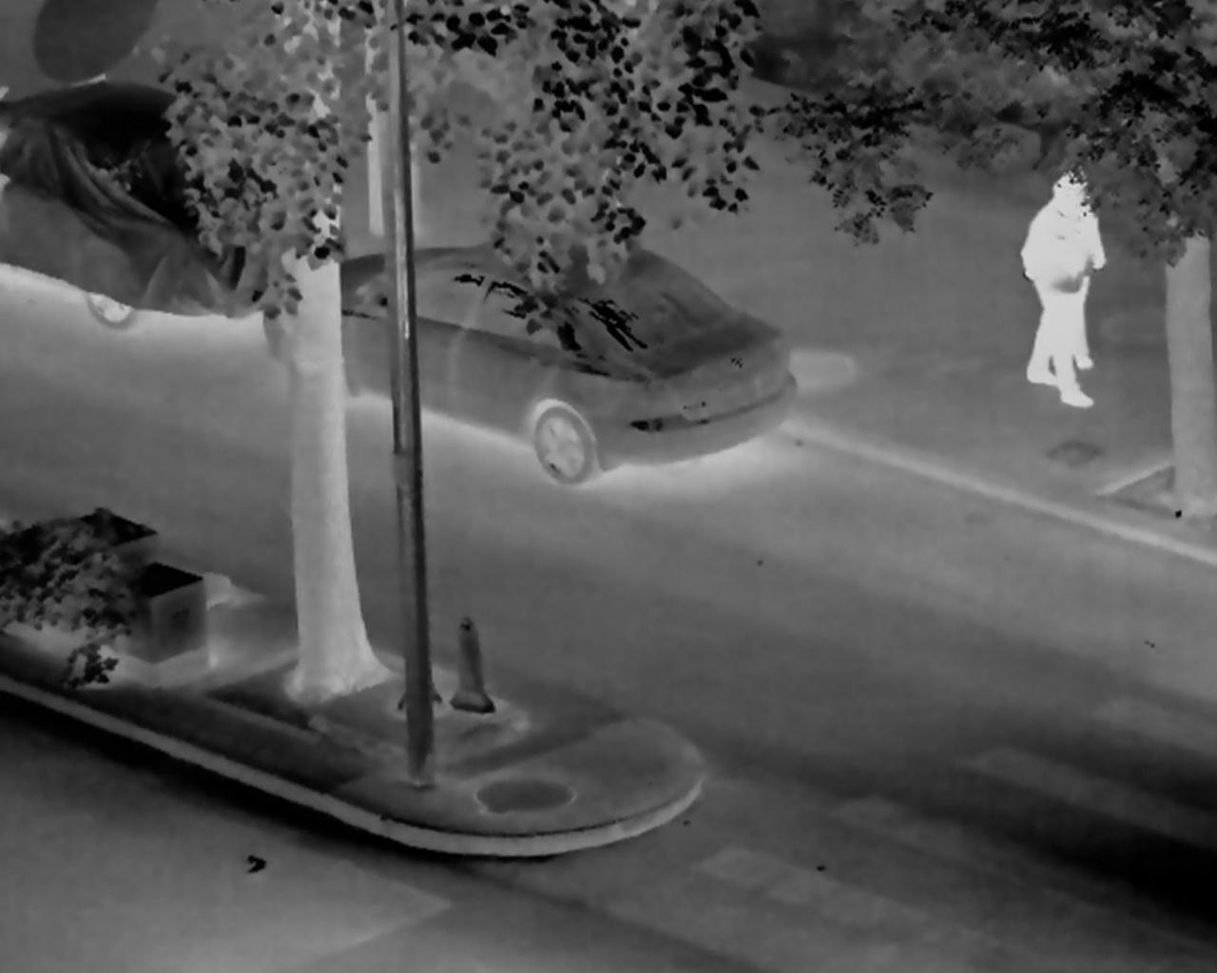person: (1008, 178, 1093, 409), (1045, 172, 1106, 372)
